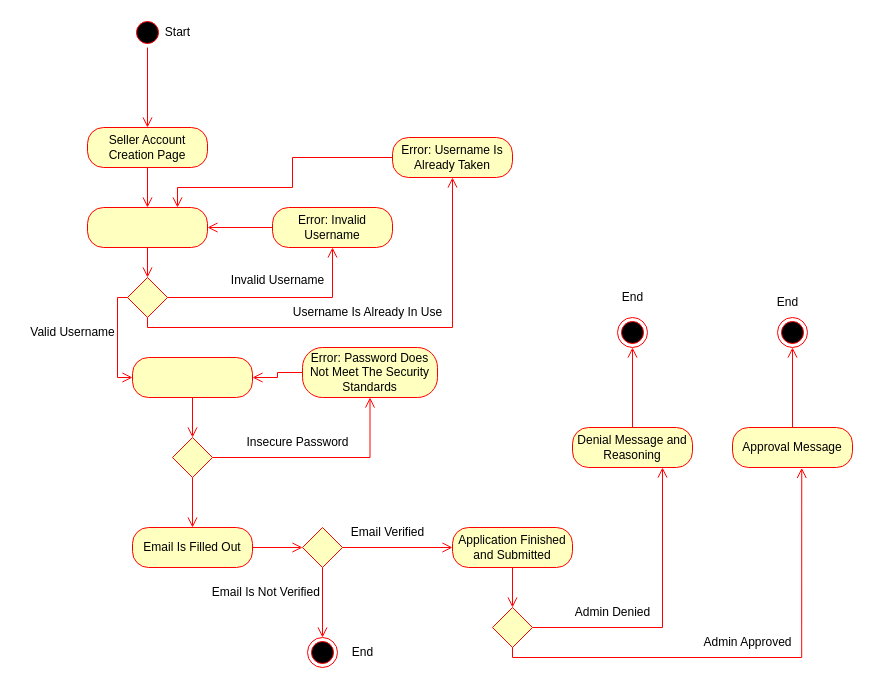
Image size: 870x685. Some labels were removed from this diagram. Each missing label, with the centre of its shape:
Password Is Filled Out: (x=192, y=377)
Username Is Filled Out: (x=147, y=227)
